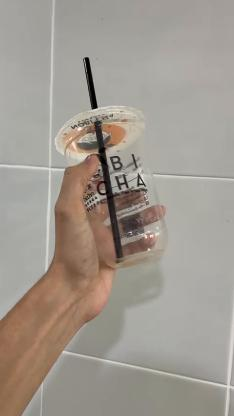Plastic Cup: (55, 102, 170, 268)
